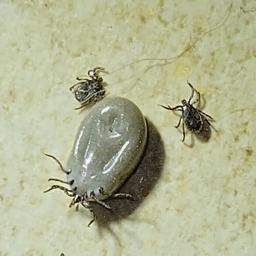Ixodes scapularis: (41, 98, 148, 227), (157, 89, 216, 142), (70, 71, 106, 109)
